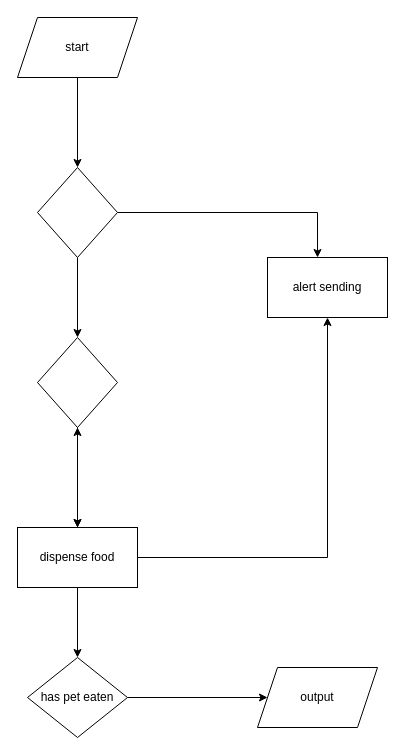
Some shapes in this 405 by 755 pixel diagram are drawn without their labels. The centre of each missing label's shape, as x and y in pixels:
is feeding time: (x=77, y=212)
is food available: (x=77, y=382)
